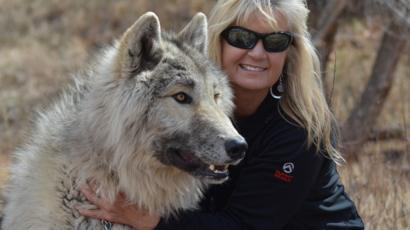fox: (0, 12, 247, 230)
